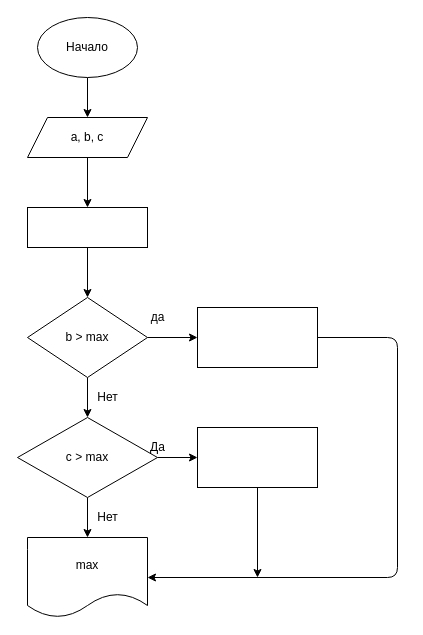
This 423x635 diagram has some shape labels left out. Each missing label, with the centre of its shape:
"max = a;" goes at point 87,227.
"max = b" goes at point 257,337.
"max = c" goes at point 257,457.
